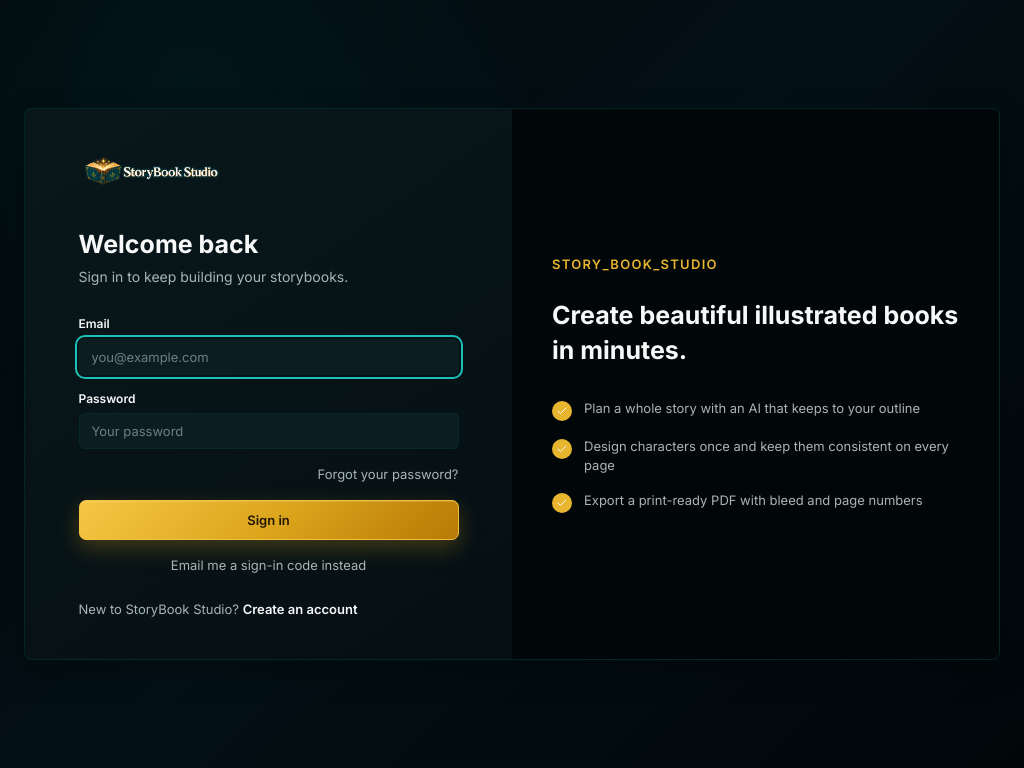
Test case: sign in › shows the server message when the credentials are rejected
This screenshot has width=1024, height=768.
Type "krishna@example.com" into the field labelled "Email" at (268, 356), box top-left (78, 338), bottom-right (458, 374)
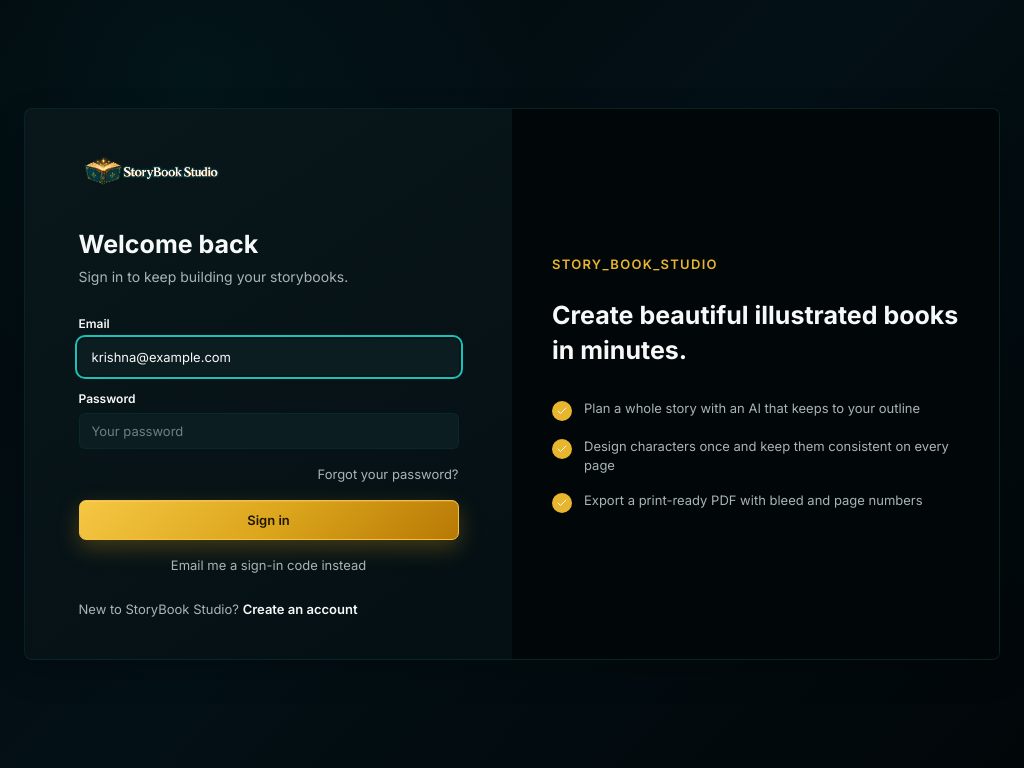
Type "wrong" into the password field labelled "Password" at (268, 431), box top-left (78, 413), bottom-right (458, 449)
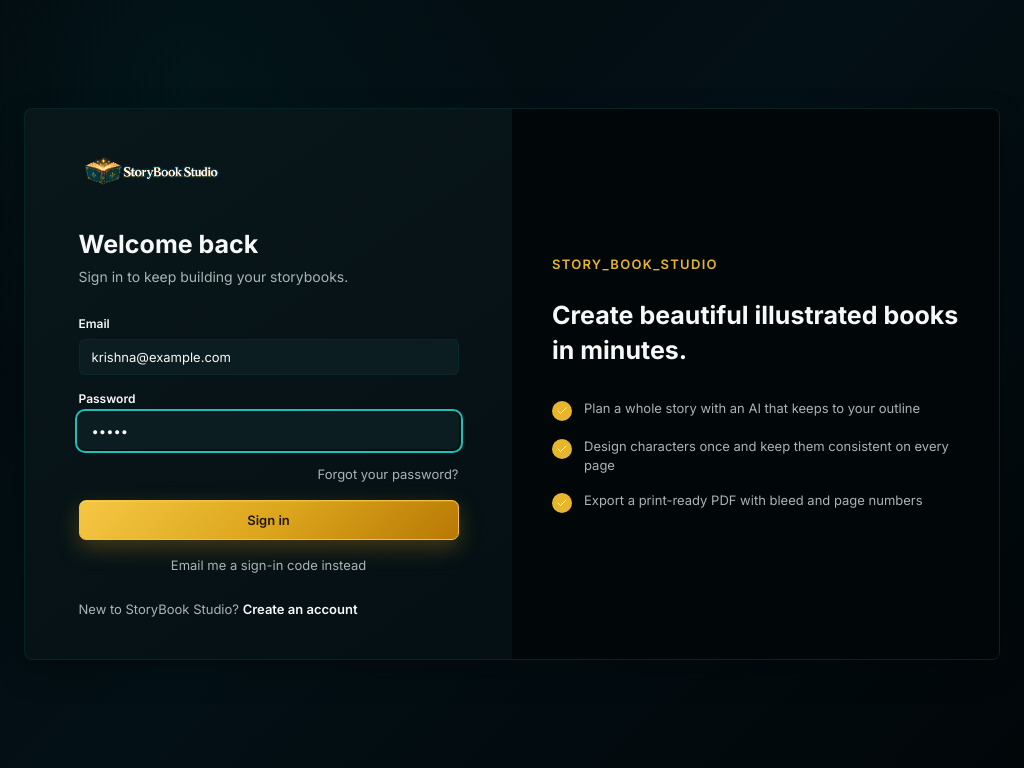
Click the button "Sign in" at (268, 520), box top-left (78, 500), bottom-right (458, 540)
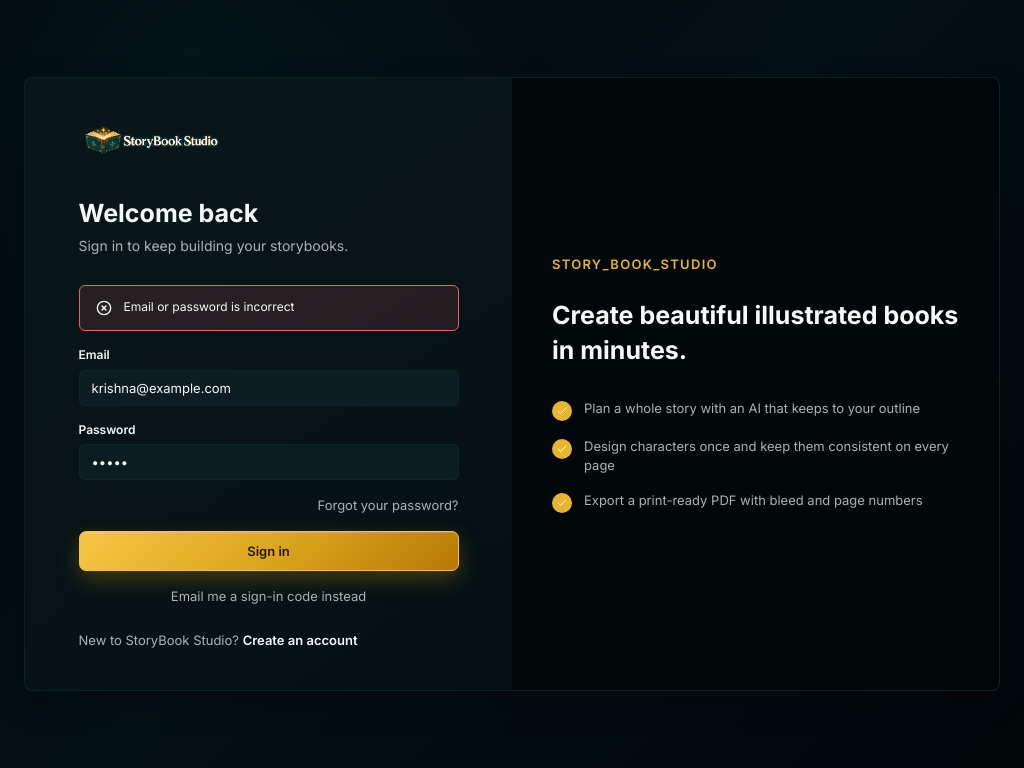
Expected: the message reads "Email or password is incorrect", top-left (124, 299), bottom-right (294, 314)
